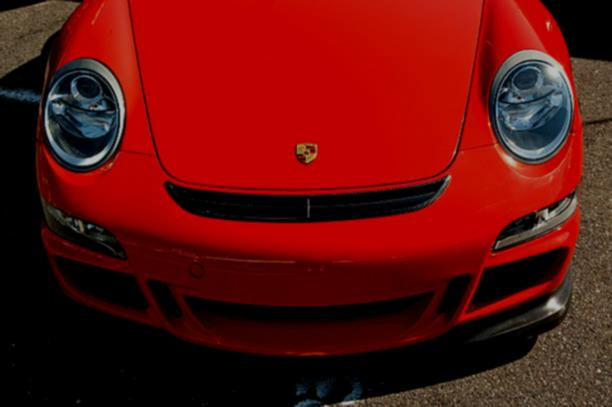porsche: (292, 137, 324, 170)
